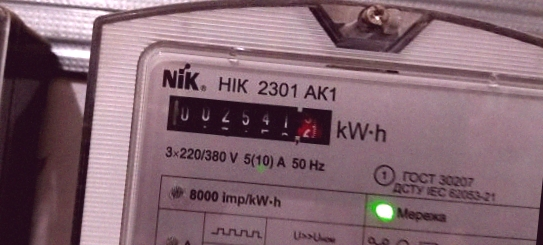0: (176, 100, 191, 122), (197, 100, 211, 122)
1: (278, 106, 291, 130)
2: (217, 101, 233, 124)
4: (258, 104, 271, 126)
5: (237, 103, 252, 127)
6: (299, 124, 312, 138)
screen: (152, 82, 345, 155)
